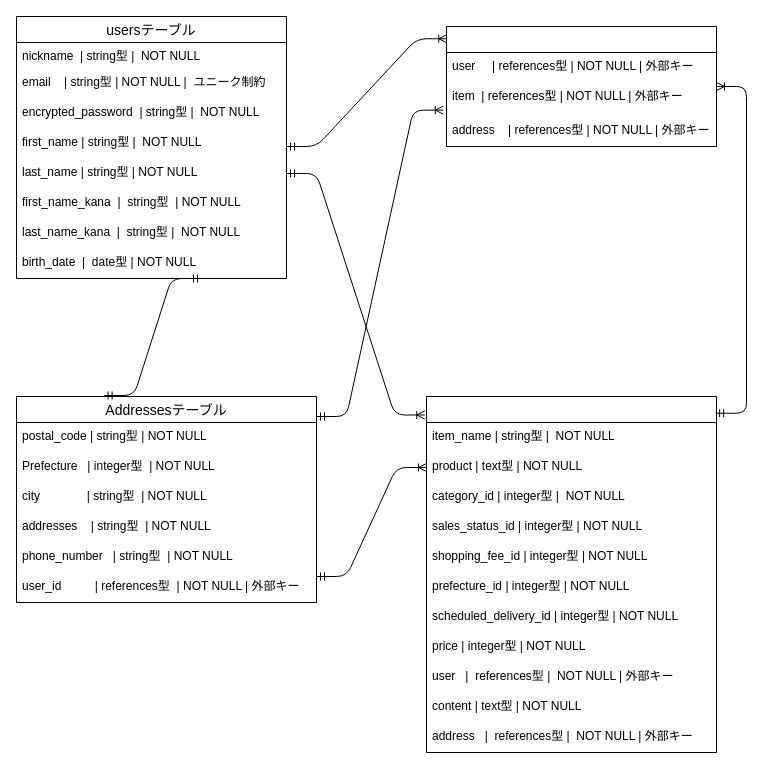
Some shapes in this 763 by 769 pixel diagram are drawn without their labels. The box of each missing label's shape, as (x1, y1, x2, y2) in pixels:
itemsテーブル: (426, 396, 716, 752)
ordersテーブル: (446, 26, 716, 146)
